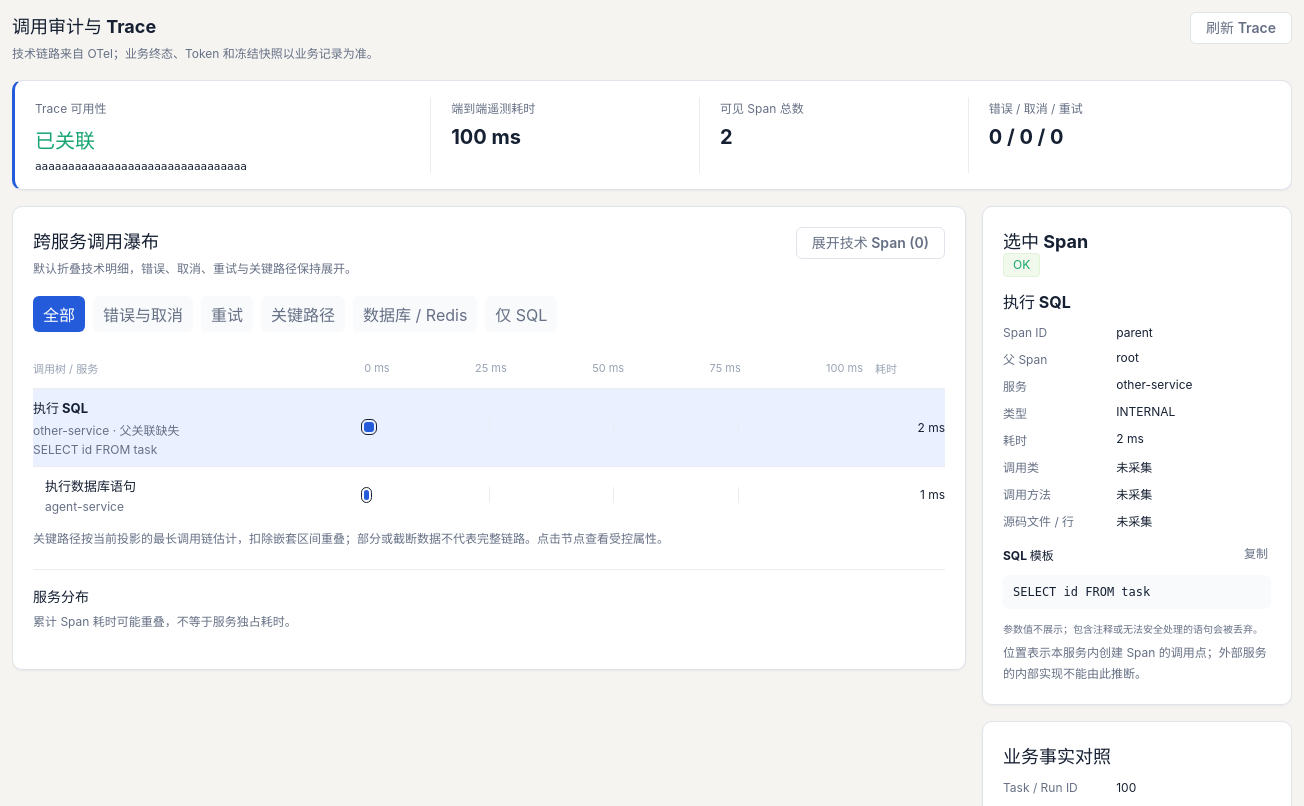
Test: technical Trace and authoritative facts › does not associate SQL from a parent in another service
This screenshot has width=1304, height=806.
Click the button "数据库 / Redis" at point(415, 314), box left=353, top=296, right=477, bottom=332
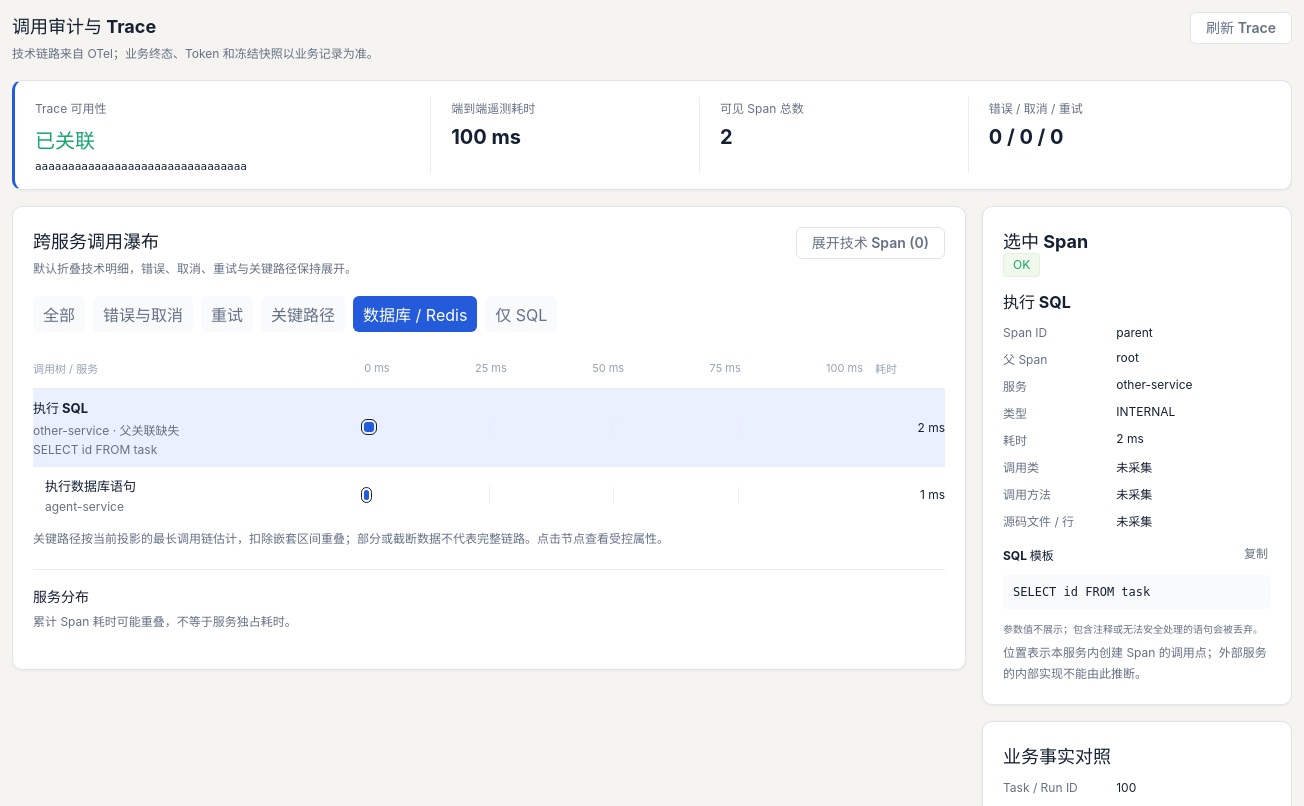
Click the button with class "span-row" showing "执行数据库语句 agent-service 1 ms" at point(489, 494), box left=33, top=466, right=945, bottom=523
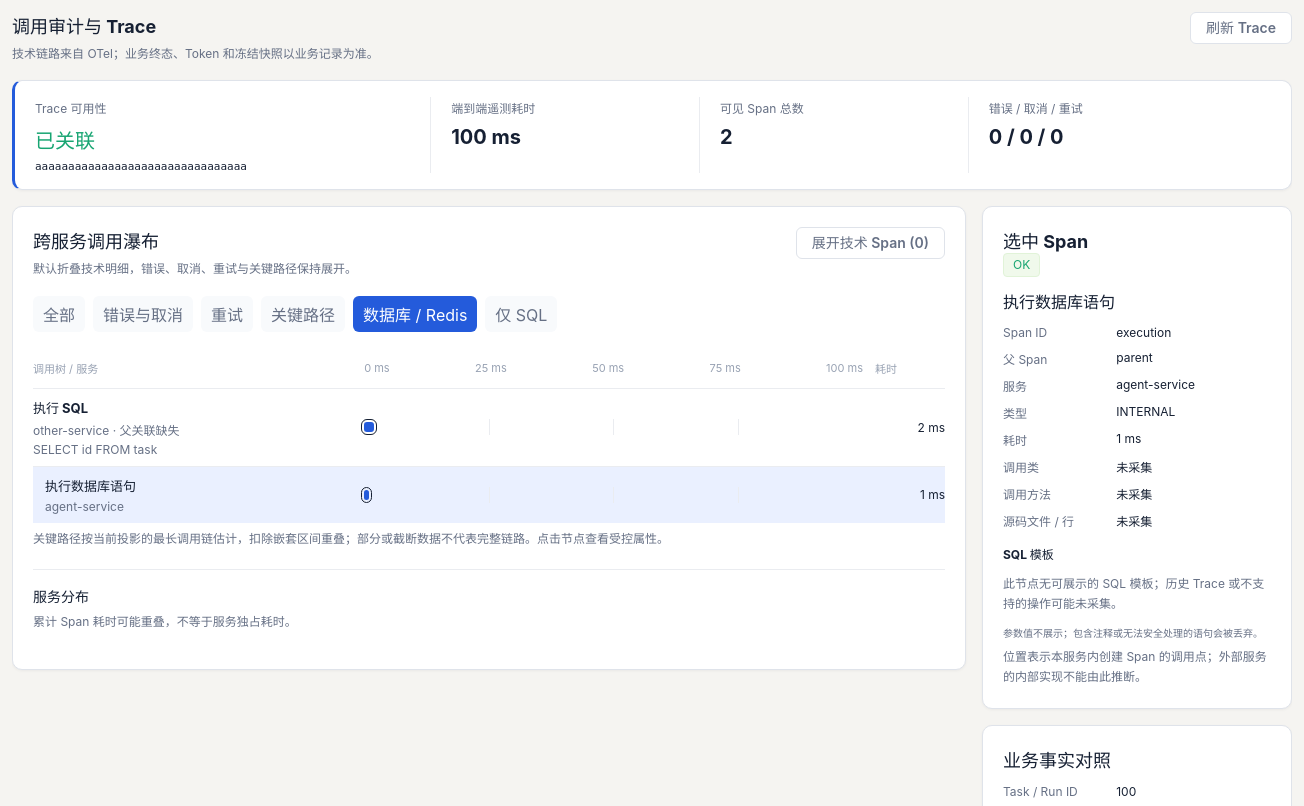
Expected: the element with class "trace-sql" does not show "SELECT id FROM task"
Expected: the element with class "trace-sql" shows "无可展示的 SQL 模板", left=1003, top=576, right=1264, bottom=611
